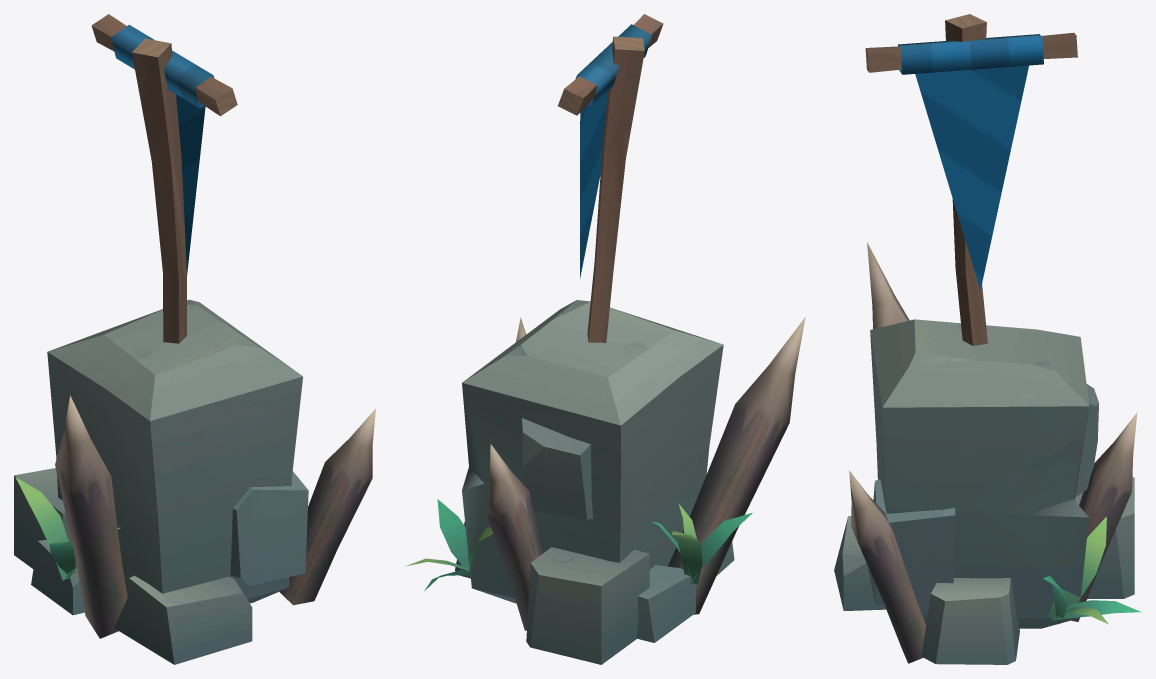
File: Pillar1B-004_02_21_0025.fbx
3 views of the same model, side by side, from view 1: azimuth 30°, elevation 25°; view 2: azimuth 150°, elevation 25°; view 3: azimuth 270°, elevation 25° (orthographic). The views are drawn at different scales.
Visible parts, largest first — view 1: Monolith1, Stake (1), Wood1.002 (1), Stake (3), Flag5.001 (1), ClothTop1 (1), Plant3 (1), WoodTop (1); view 2: Monolith1, Stake (1), Wood1.002 (1), Stake (2), Flag5.001 (1), Plant3 (1), Plant3 (2), ClothTop1 (1), WoodTop (1); view 3: Monolith1, Flag5.001 (1), Stake (3), ClothTop1 (1), Stake (2), Wood1.002 (1), Plant3 (2), WoodTop (1), Stake (1).
Part boxes in pixels (x1,y1,x2,y2): Monolith1: (14, 299, 308, 664); Stake (1): (55, 395, 127, 638); Wood1.002 (1): (132, 38, 186, 343); Stake (3): (279, 408, 375, 605); Flag5.001 (1): (176, 94, 205, 274); ClothTop1 (1): (111, 24, 214, 108); Plant3 (1): (15, 477, 120, 580); WoodTop (1): (91, 14, 237, 116); Monolith1: (455, 300, 734, 664); Stake (1): (668, 317, 805, 614); Wood1.002 (1): (587, 36, 644, 342); Stake (2): (486, 444, 543, 630); Flag5.001 (1): (580, 92, 607, 278); Plant3 (1): (652, 504, 752, 585); Plant3 (2): (406, 499, 492, 591); ClothTop1 (1): (575, 24, 651, 107); WoodTop (1): (558, 14, 663, 115); Monolith1: (834, 319, 1134, 664); Flag5.001 (1): (915, 65, 1028, 290); Stake (3): (849, 470, 926, 663); ClothTop1 (1): (898, 34, 1043, 74); Stake (2): (1071, 412, 1137, 621); Wood1.002 (1): (945, 14, 987, 345); Plant3 (2): (1043, 517, 1141, 624); WoodTop (1): (865, 32, 1077, 72); Stake (1): (867, 242, 909, 329).
Bounding box in the file's own units: 3.07 × 5.61 × 2.69.
